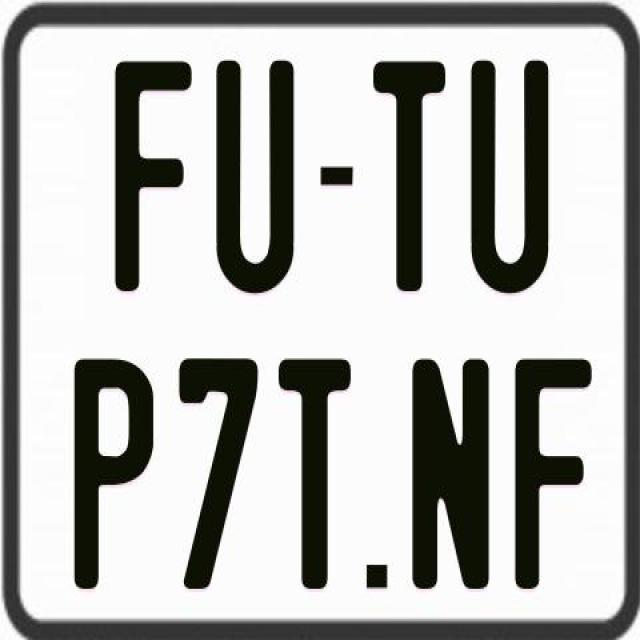7: (177, 358, 256, 590)
F: (511, 358, 596, 597), (112, 61, 190, 293)
N: (412, 355, 489, 592)
P: (73, 357, 160, 592)
T: (277, 360, 355, 597), (370, 58, 446, 288)
U: (212, 59, 292, 301), (470, 58, 550, 294)
